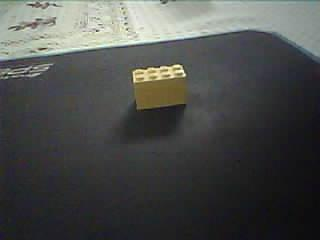lego: (130, 62, 189, 111)
